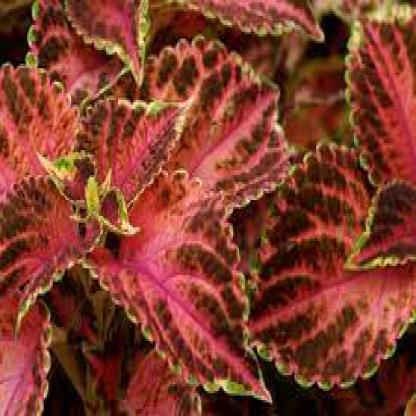Bunga Coleus: (12, 17, 407, 387)
